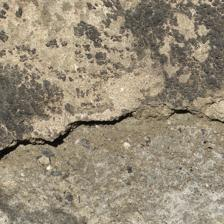Crack: (3, 102, 222, 159)
